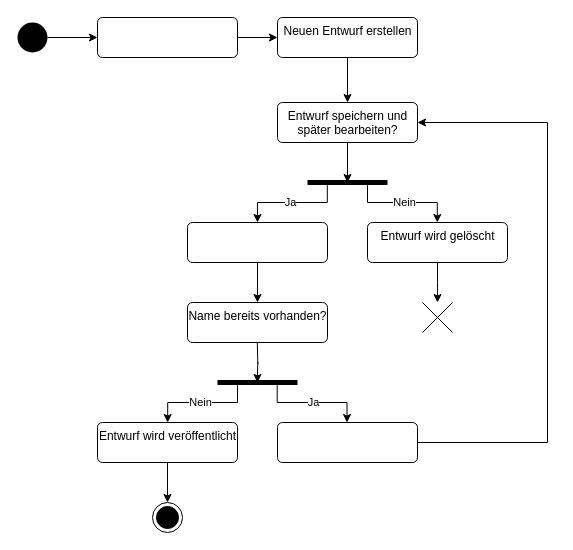
This 573x550 diagram has some shape labels left out. Here are the shapes that lost their labels. From the top down, the centre of each, then its label:
At (x=167, y=37): "Anmeldung".
At (x=257, y=242): "Entwurf Veröffentlichen?".
At (x=347, y=442): "zurück zum Entwurf".
